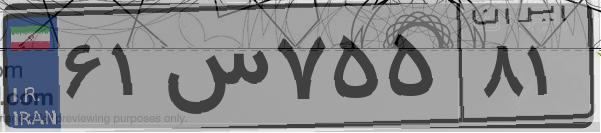1: (525, 38, 570, 115), (110, 28, 158, 98)
5: (385, 28, 445, 110), (330, 28, 385, 110)
6: (57, 26, 110, 100)
7: (270, 28, 330, 110)
8: (475, 38, 525, 113)
س: (158, 20, 270, 120)
